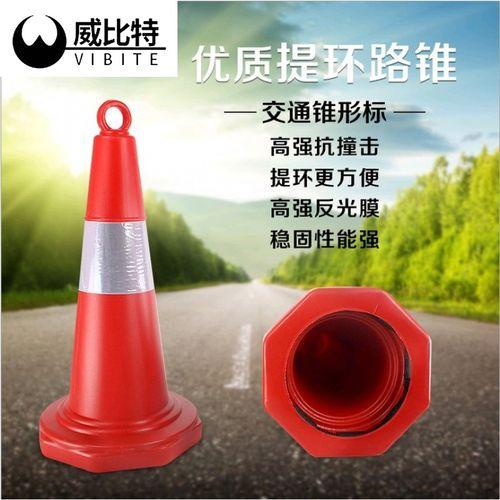sign: (31, 101, 207, 472)
